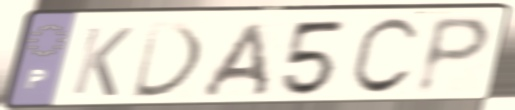5: (274, 17, 359, 99)
A: (195, 19, 273, 100)
C: (345, 15, 423, 99)
D: (128, 20, 209, 101)
K: (67, 24, 137, 100)
P: (410, 14, 496, 98)
